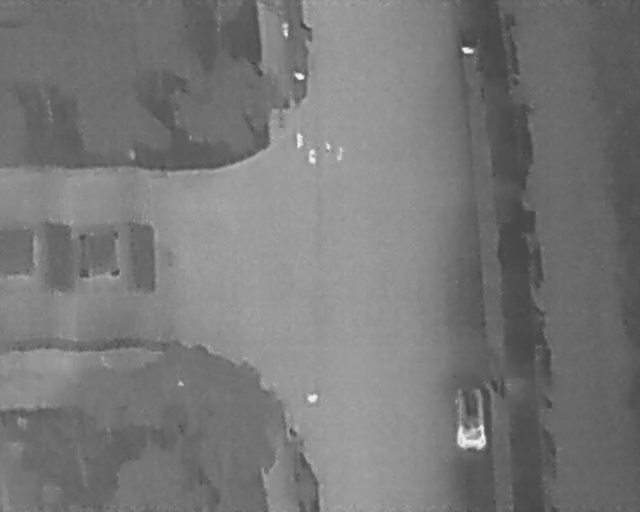Car: (452, 386, 489, 449)
Person: (308, 146, 318, 165), (281, 21, 291, 39), (295, 133, 304, 151)
